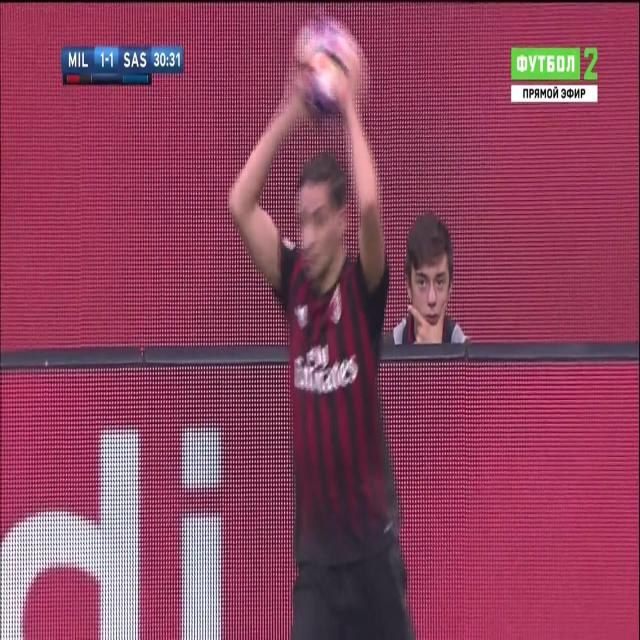Ball: (296, 15, 359, 124)
Player: (228, 66, 417, 640)
